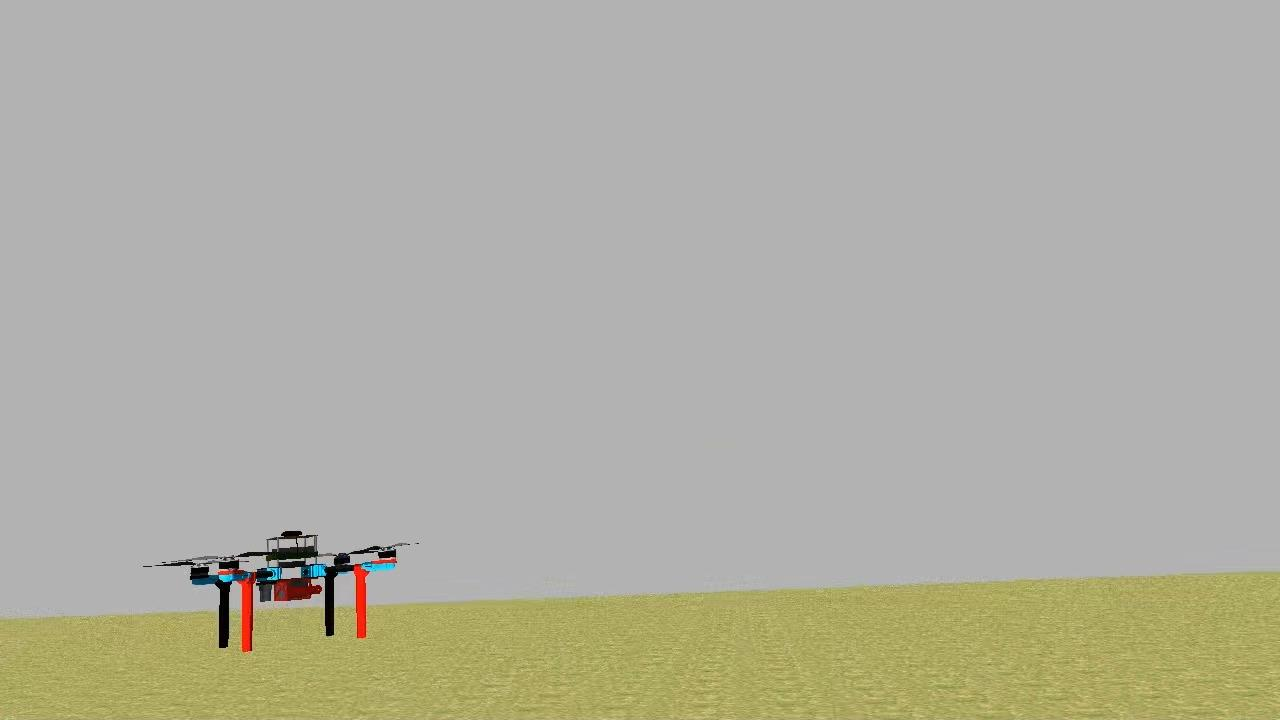UAV: (186, 526, 408, 656)
